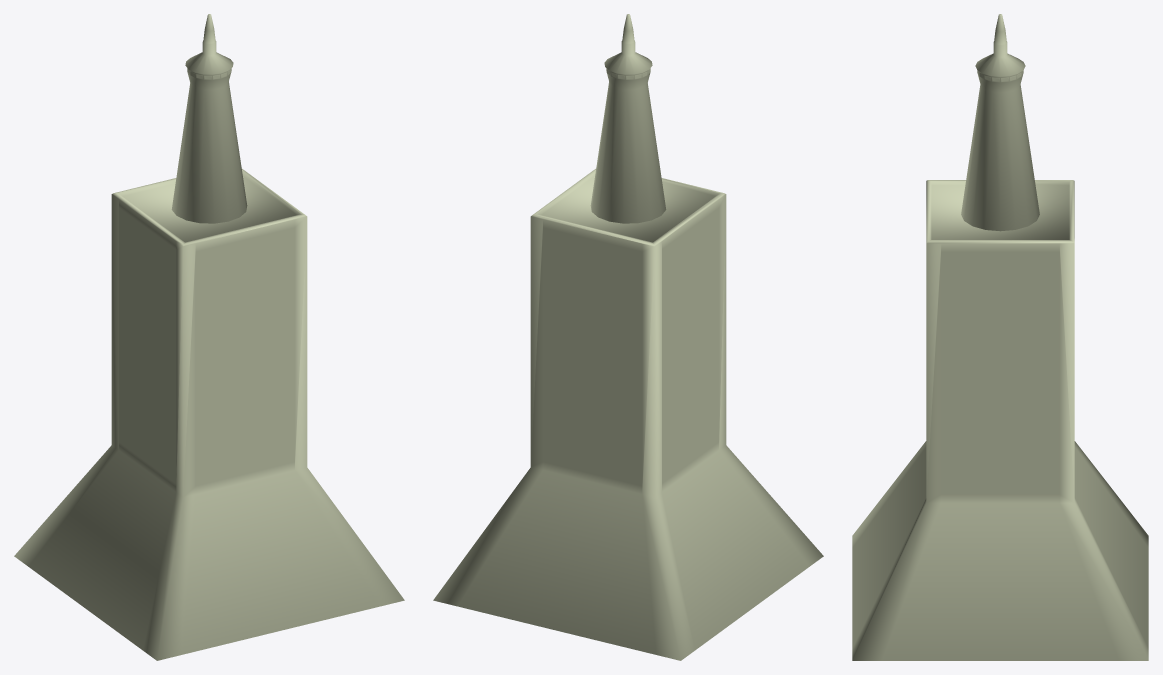
Rendered from Guard-Tower_002.obj.
3 renders of one model, left to right at view 1: azimuth 30°, elevation 25°; view 2: azimuth 150°, elevation 25°; view 3: azimuth 270°, elevation 25°, orthographic. The views are drawn at different scales.
Parts seen in each view (by area): view 1: Cylinder1; view 2: Cylinder1; view 3: Cylinder1.
Part boxes in pixels (bbox=[...]): Cylinder1: bbox=[14, 14, 404, 660]; Cylinder1: bbox=[433, 14, 823, 660]; Cylinder1: bbox=[852, 14, 1148, 660].
Bounding box in the file's own units: 1061 × 2307 × 1061.
